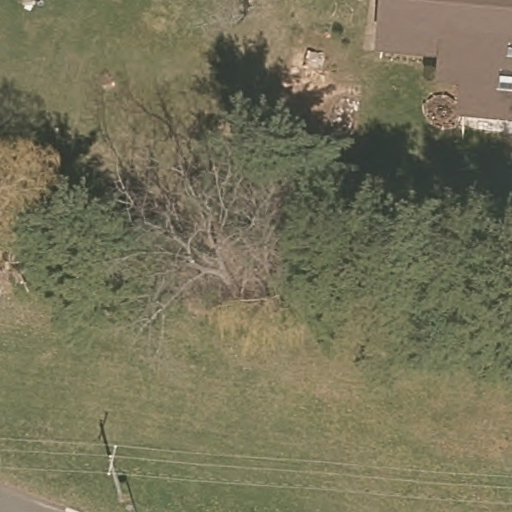DT: (104, 444, 119, 481)
